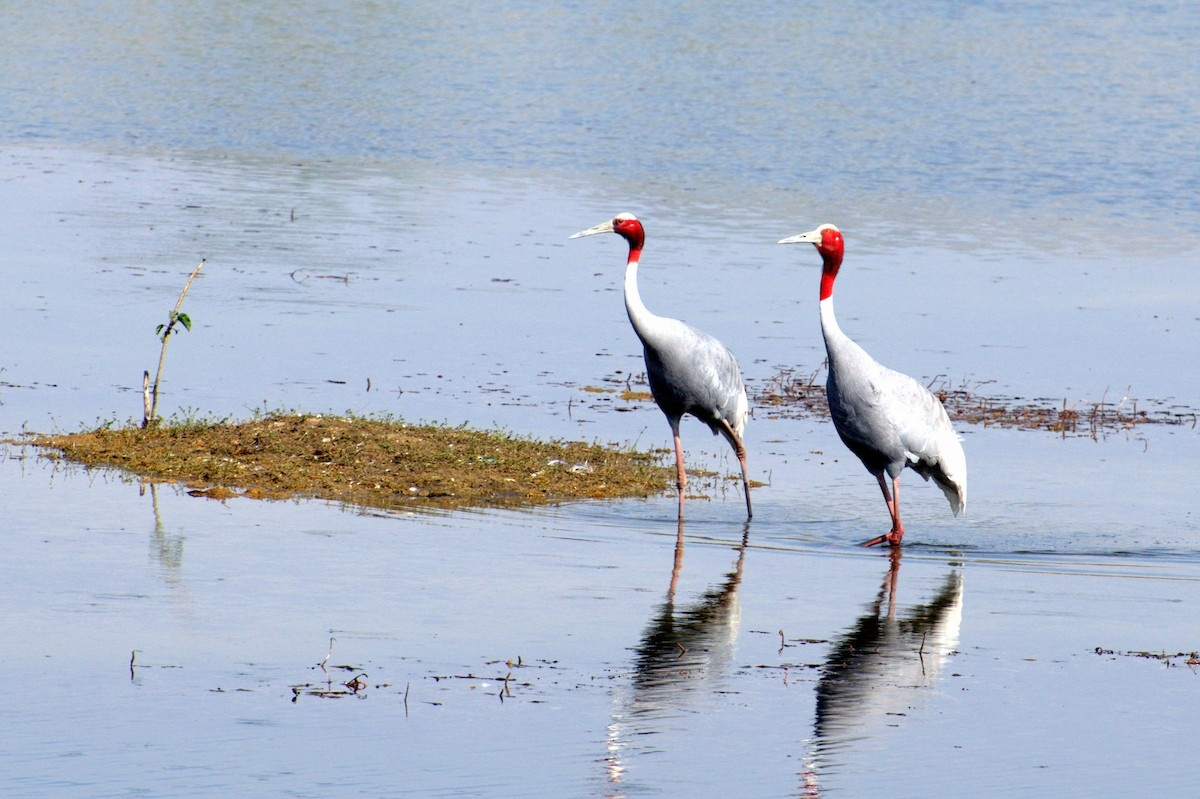crane: (770, 212, 970, 542), (567, 207, 771, 523)
